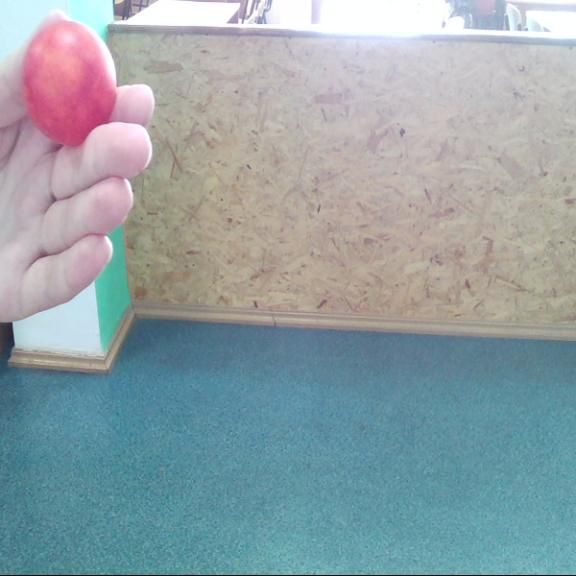ball: (21, 19, 120, 146)
